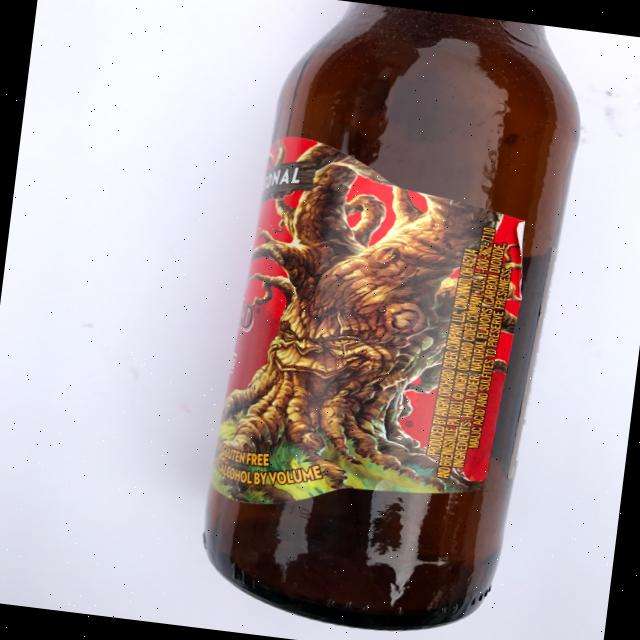glass: (191, 0, 591, 640)
